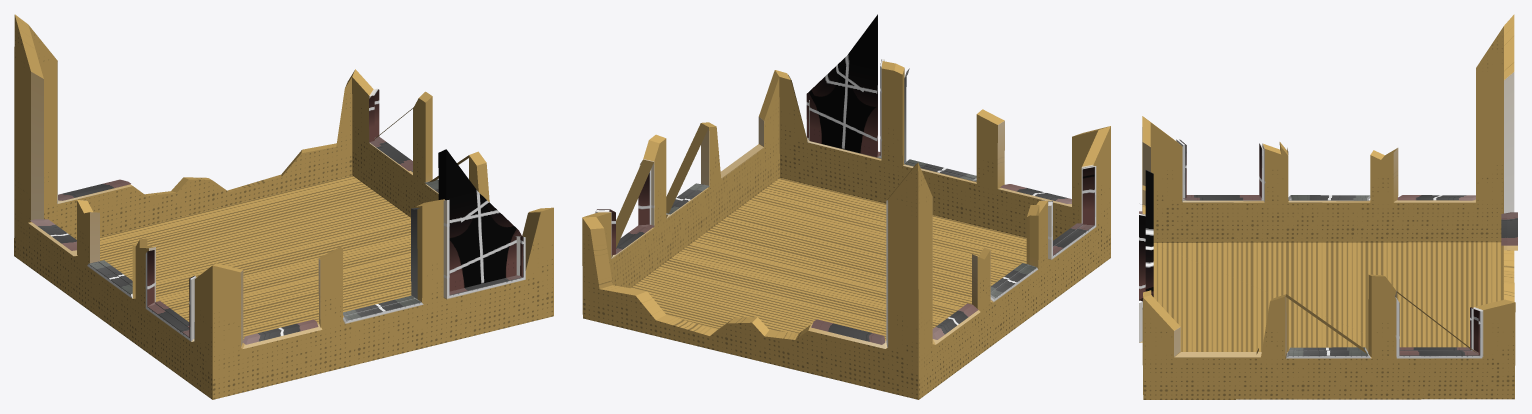
File: Building03B.fbx
The picture shows the model from 3 angles, left to right: view 1: azimuth 30°, elevation 25°; view 2: azimuth 150°, elevation 25°; view 3: azimuth 270°, elevation 25°; orthographic projection. The views are drawn at different scales.
Visible parts, largest first — view 1: Building3B; view 2: Building3B; view 3: Building3B.
Part boxes in pixels (x1=…): Building3B: x1=14, y1=14, x2=553, y2=399; Building3B: x1=582, y1=14, x2=1110, y2=399; Building3B: x1=1139, y1=14, x2=1517, y2=399.
Size of the model in its own units: 1040 by 691 by 1039.
